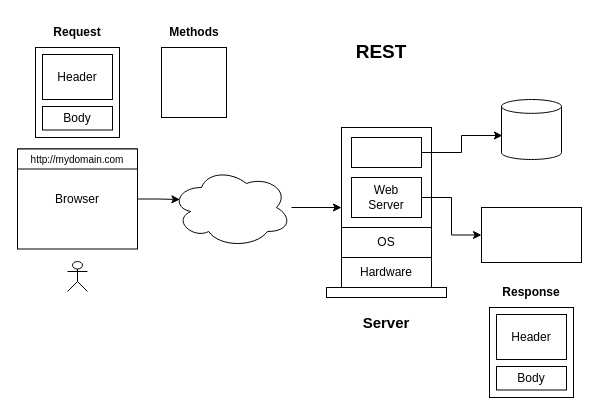
Image size: 599x415. Some labels were removed from this diagram. Here are the shapes that lost their labels. From the top down, the centre of each, then its label:
point 193,82: GET POST PUT DELETE
point 386,152: DB
point 231,207: internet
point 531,234: /var/www/html - index.html
point 77,276: client
